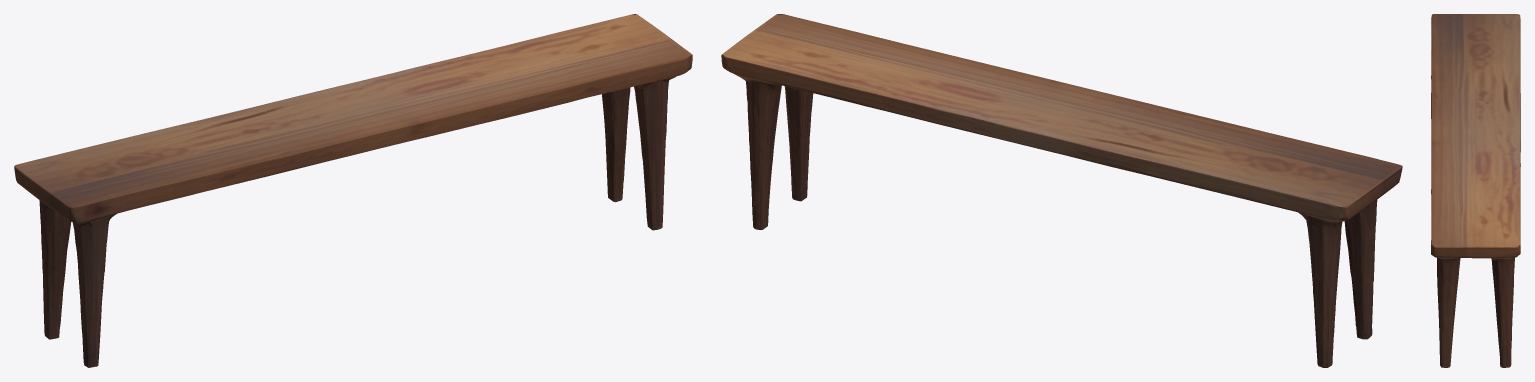
File: e4a612b9-da4a-48e7-a308-8fea1fe01184.glb
3 renders of one model, left to right at view 1: azimuth 30°, elevation 25°; view 2: azimuth 150°, elevation 25°; view 3: azimuth 270°, elevation 25°, orthographic. The views are drawn at different scales.
Visible parts, largest first — view 1: world; view 2: world; view 3: world.
Part boxes in pixels (x1,y1,x2,y2): world: (14, 14, 692, 367); world: (721, 14, 1402, 367); world: (1431, 14, 1520, 367).
Bounding box in the file's own units: 1 × 0.2626 × 0.1628.
Materials: 1 (1 with a texture image).
